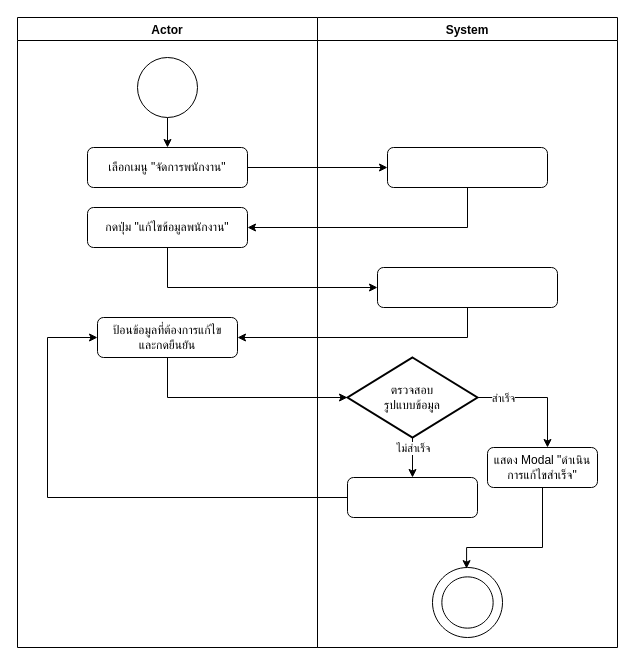
This 635x665 diagram has some shape labels left out. The shapes that lost their labels are listed below. From the top down, each one's centre as x and y in pixels, then its label:
pixel 467 167: แสดงรายชื่อพนักงานปัจจุบัน
pixel 467 287: แสดงฟอร์มสำหรับแก้ไขข้อมูล
pixel 412 497: แสดง Modal "ข้อมูลไม่ถูกต้อง"
